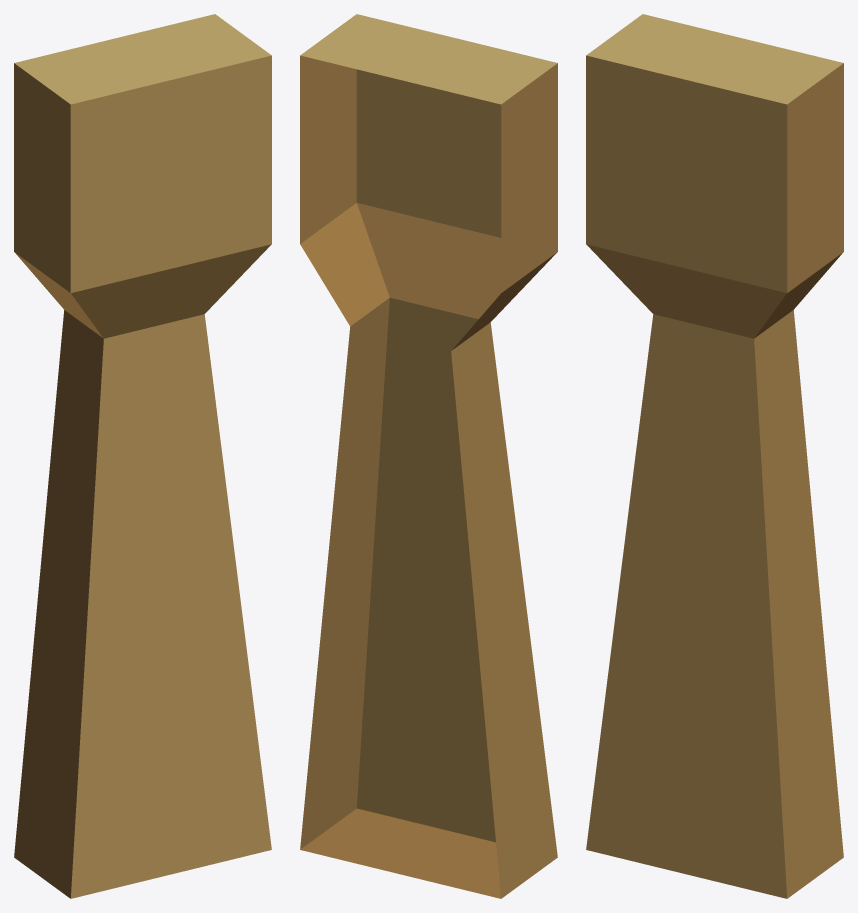
File: SM_Prop_Curtains_Knot_01.glb
3 renders of one model, left to right at view 1: azimuth 30°, elevation 25°; view 2: azimuth 150°, elevation 25°; view 3: azimuth 330°, elevation 25°, orthographic.
Visible parts, largest first — view 1: SM_Prop_Curtains_Knot_01; view 2: SM_Prop_Curtains_Knot_01; view 3: SM_Prop_Curtains_Knot_01.
Boxes of the visible parts, x1,y1,x2,y2 form: SM_Prop_Curtains_Knot_01: [14, 14, 271, 898]; SM_Prop_Curtains_Knot_01: [300, 14, 557, 898]; SM_Prop_Curtains_Knot_01: [586, 14, 843, 898].
Size of the model in its own units: 0.0034 by 0.0128 by 0.00166.
Materials: 1 (1 with a texture image).
